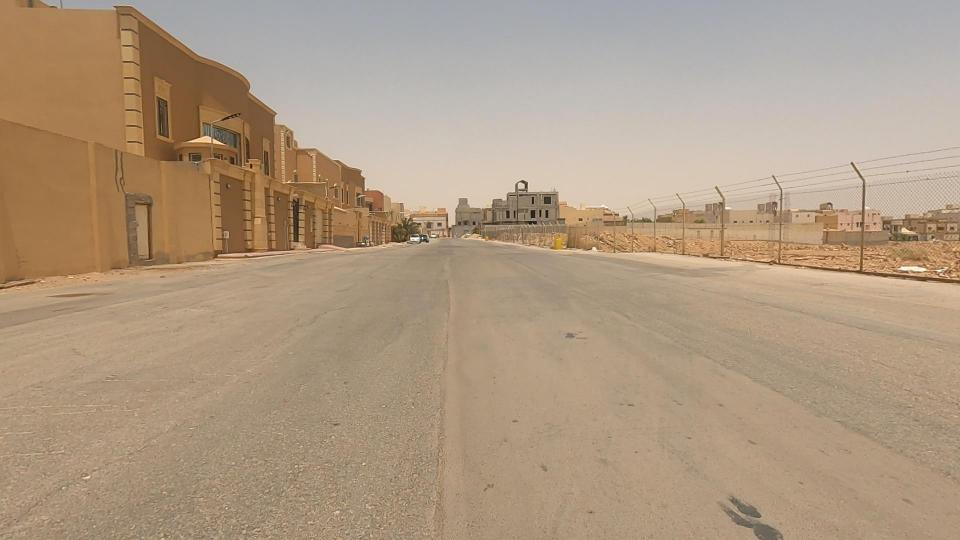GARBAGE: (847, 236, 960, 293), (555, 228, 637, 270)
